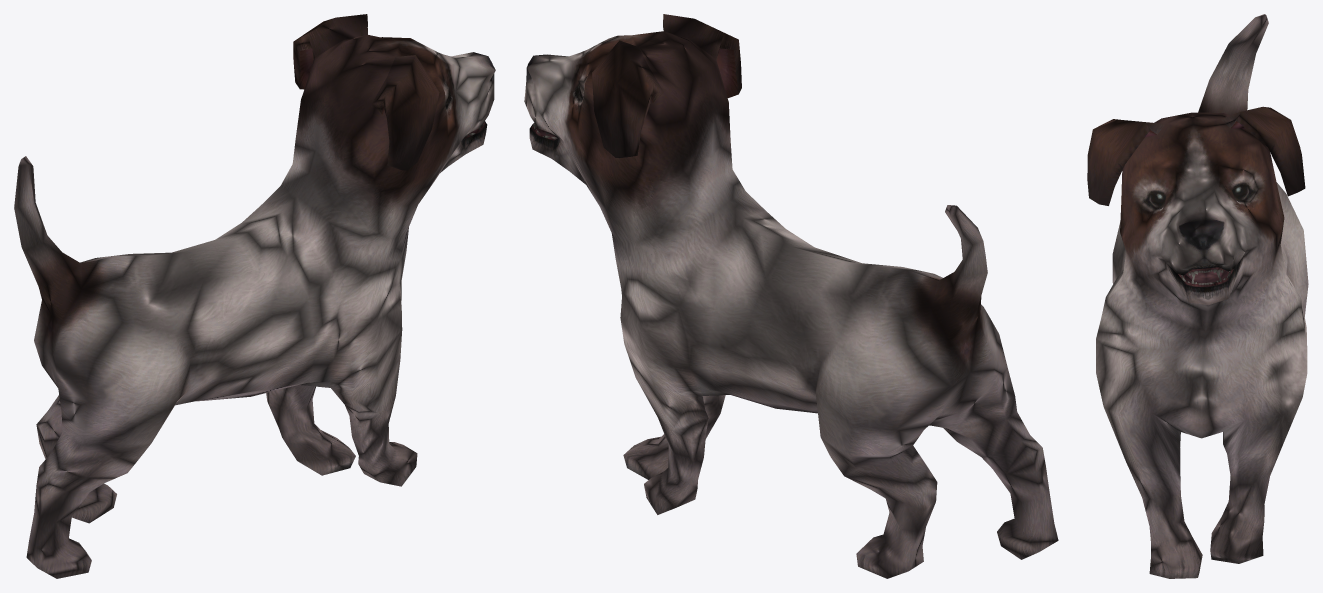
File: gou.obj
3 renders of one model, left to right at view 1: azimuth 30°, elevation 25°; view 2: azimuth 150°, elevation 25°; view 3: azimuth 270°, elevation 25°, orthographic. The views are drawn at different scales.
Parts seen in each view (by area): view 1: SmallDog_Skel; view 2: SmallDog_Skel; view 3: SmallDog_Skel.
Part boxes in pixels (x1=…): SmallDog_Skel: x1=14, y1=14, x2=495, y2=578; SmallDog_Skel: x1=524, y1=14, x2=1058, y2=578; SmallDog_Skel: x1=1087, y1=14, x2=1308, y2=578.
Size of the model in its own units: 20.26 by 17.61 by 7.53.
Materials: 1 (1 with a texture image).
